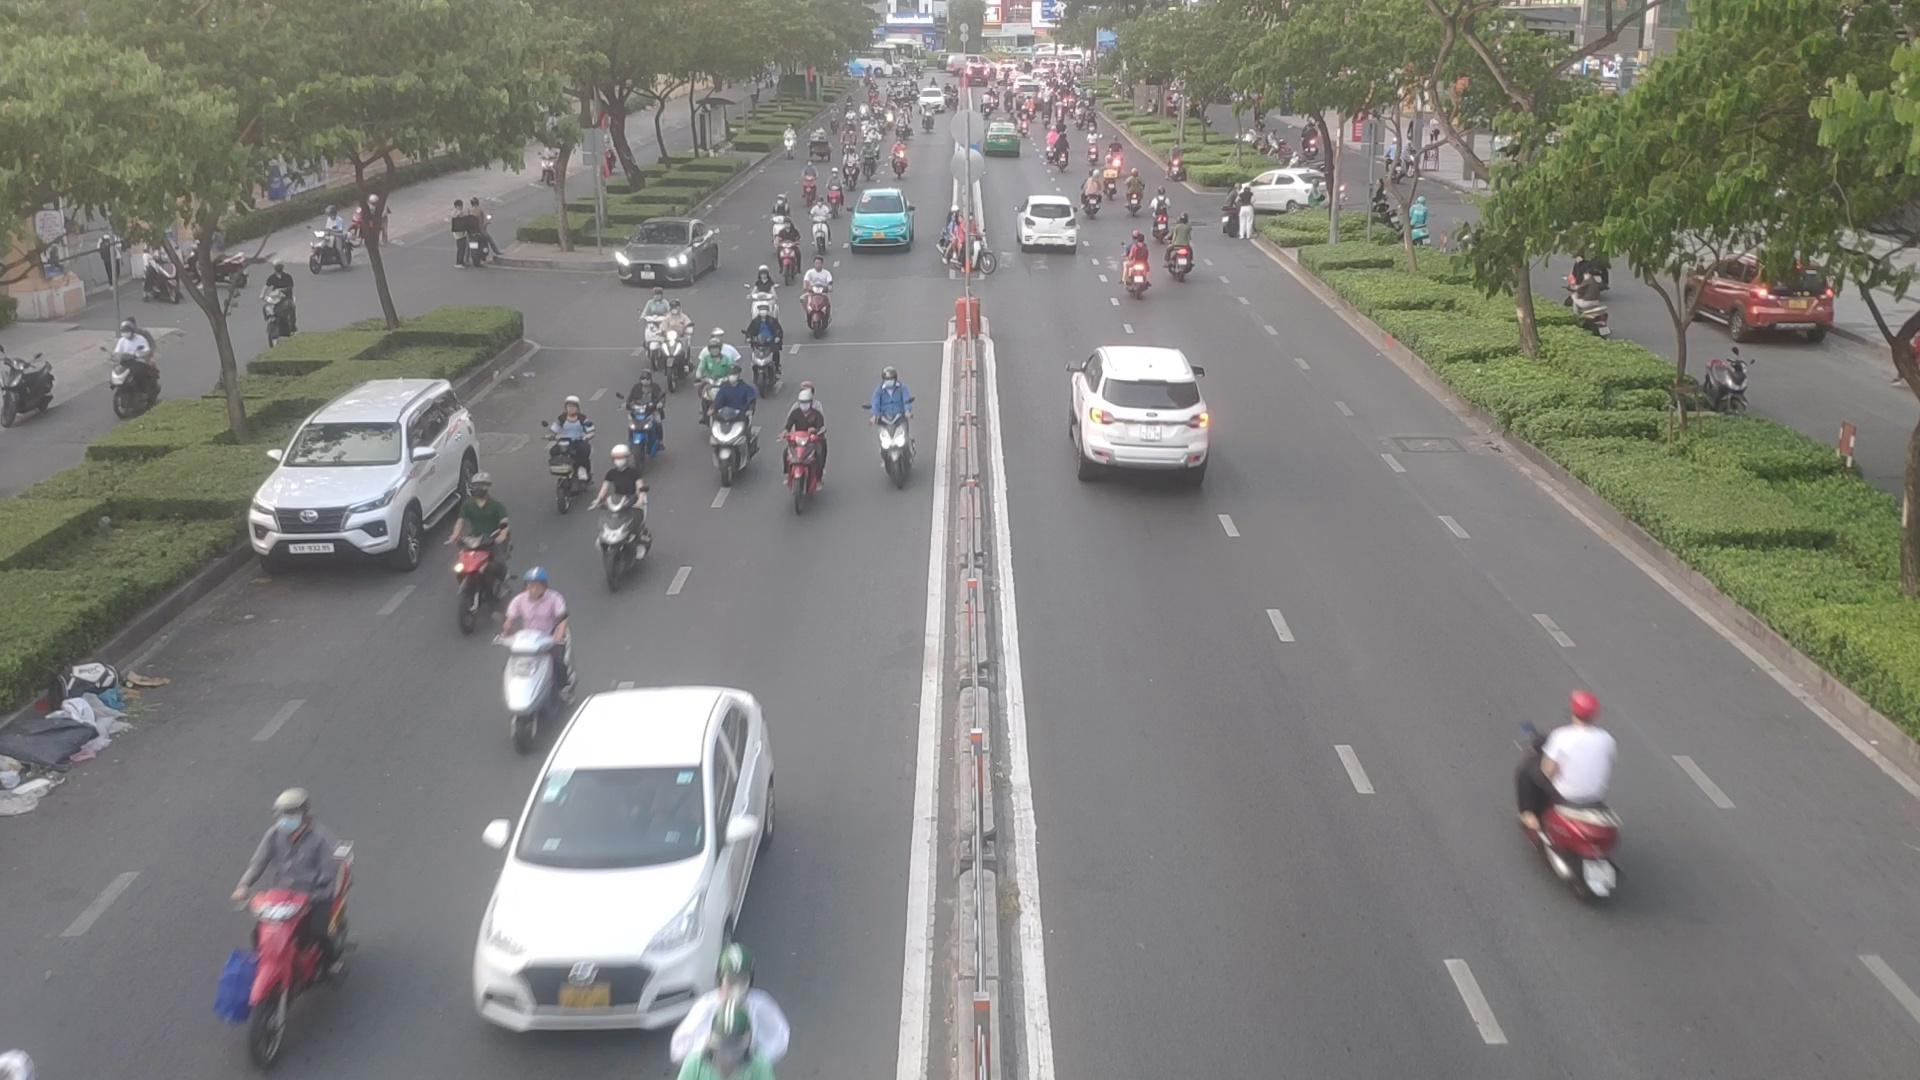car: (473, 683, 783, 1048), (251, 381, 491, 575), (1071, 348, 1209, 473), (612, 219, 723, 290), (847, 190, 913, 257), (1015, 194, 1083, 251)
motorbike: (203, 800, 349, 1044), (1518, 696, 1636, 880), (502, 625, 583, 750), (599, 444, 653, 596), (451, 483, 502, 612), (870, 363, 919, 483), (781, 390, 833, 495), (541, 401, 591, 502), (625, 369, 667, 473), (742, 310, 793, 385), (725, 377, 758, 491), (702, 339, 737, 429), (640, 293, 676, 376), (938, 225, 994, 280), (671, 299, 703, 381), (804, 276, 845, 338), (775, 220, 808, 285), (749, 280, 782, 342), (1172, 222, 1203, 287), (767, 202, 796, 255), (820, 171, 851, 222), (1124, 237, 1145, 287), (1150, 195, 1174, 235), (818, 202, 835, 252), (804, 169, 822, 203)
